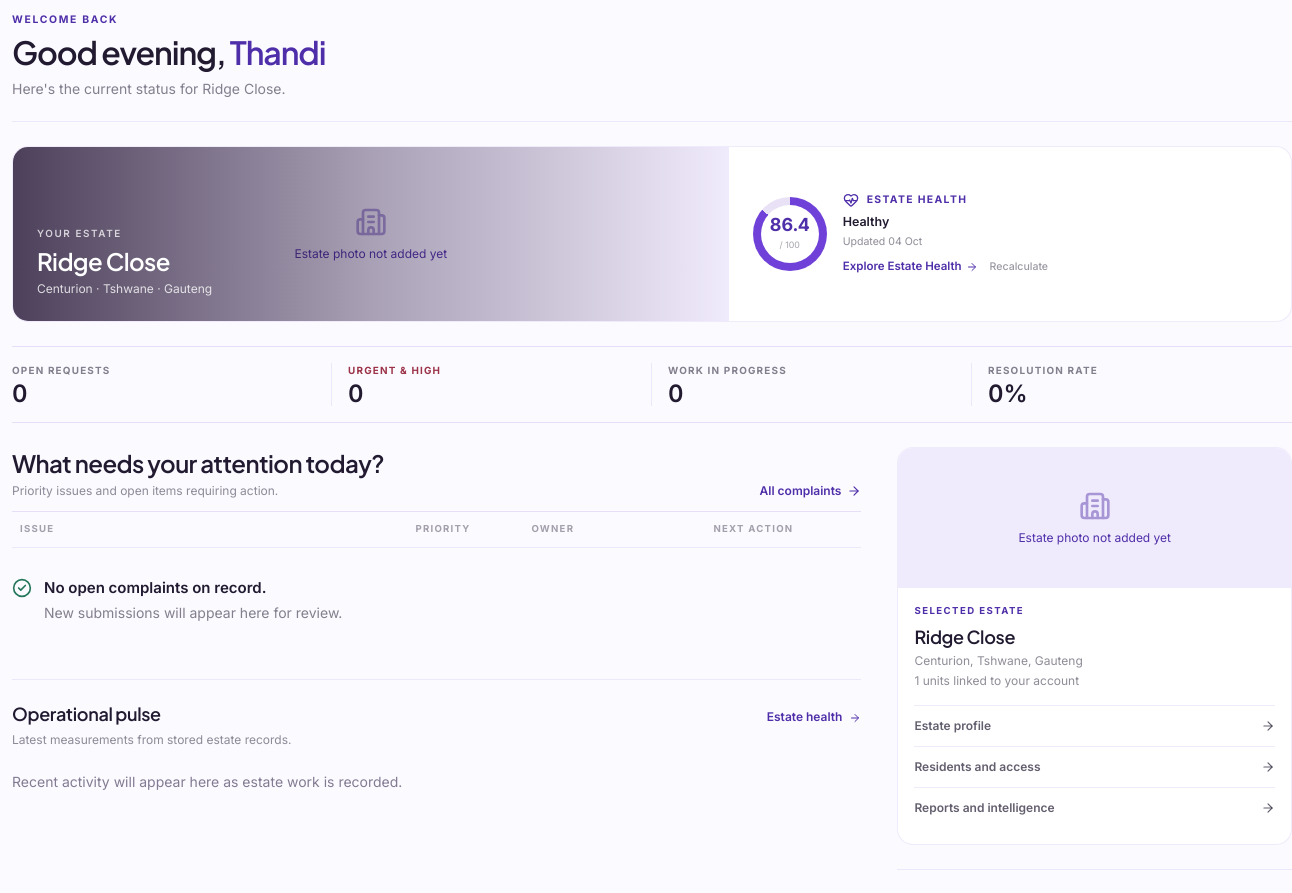
Test: Dashboard — Living Score › shows the server’s refusal verbatim when the recalculation is not allowed
Click the button "Recalculate" at (1019, 267), box [990, 259, 1048, 275]
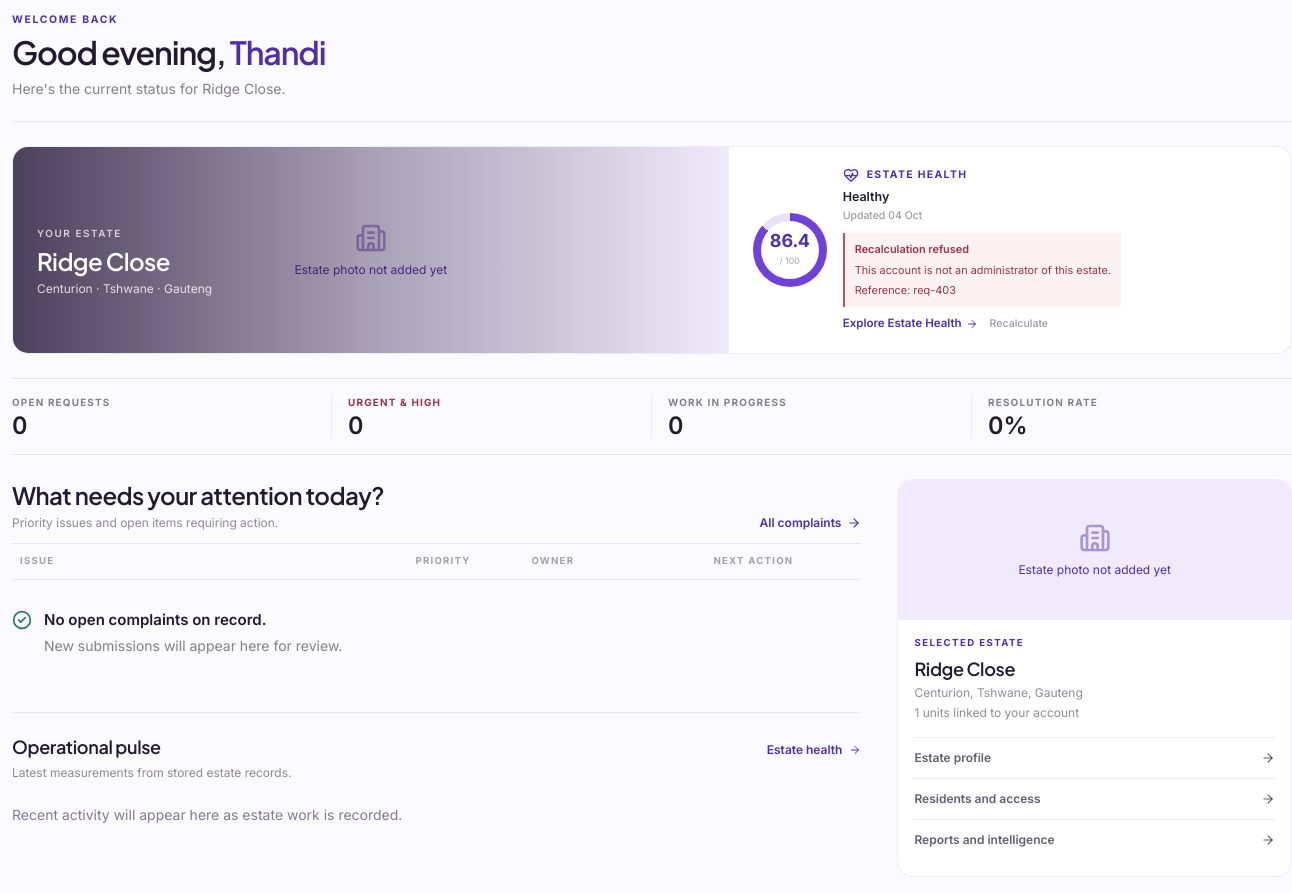
Now the text "Recalculation refused" is shown, box [855, 242, 969, 256]
Now the text "This account is not an administrator of this estate." is shown, box [855, 262, 1111, 278]
Now the text "Reference: req-403" is shown, box [855, 283, 956, 297]
